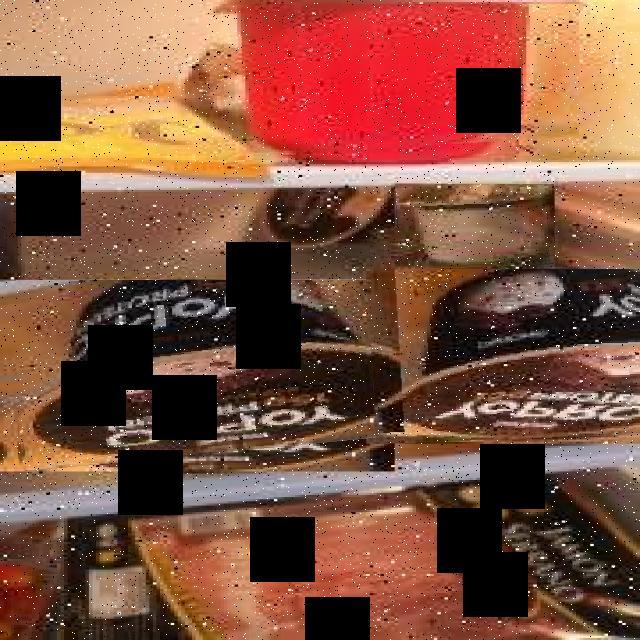yogurt: (0, 280, 395, 472), (213, 4, 580, 160), (366, 269, 640, 444), (394, 184, 554, 270)
